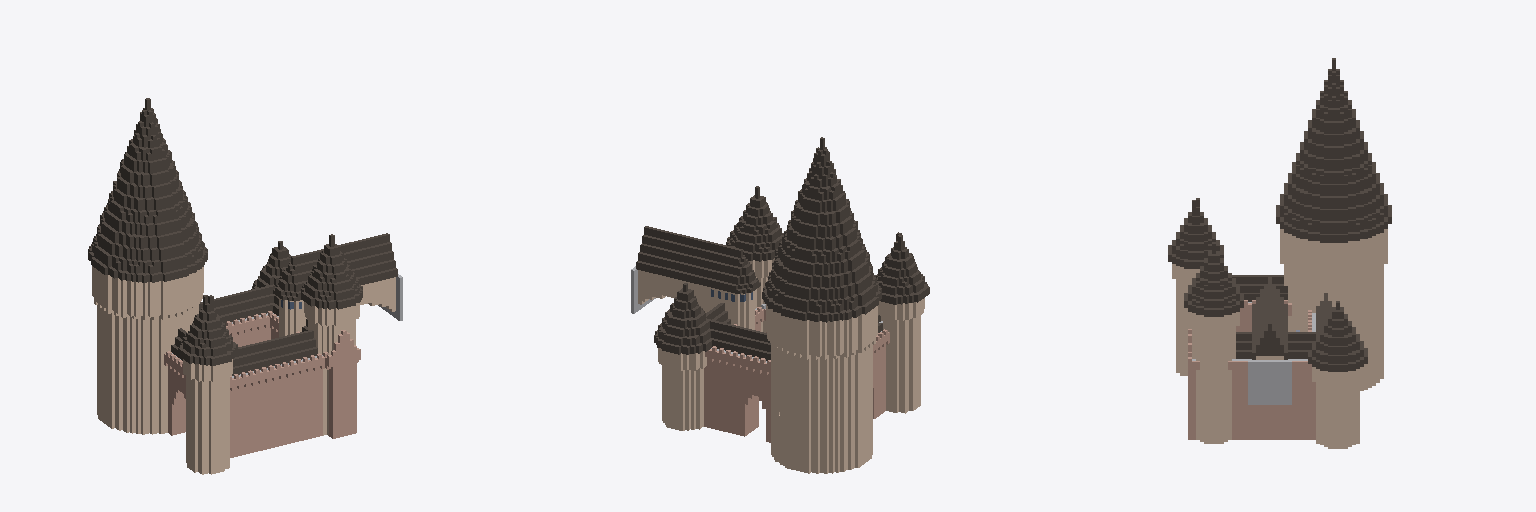
The picture shows the model from 3 angles: view 1: azimuth 30°, elevation 25°; view 2: azimuth 150°, elevation 25°; view 3: azimuth 270°, elevation 25°; orthographic projection.
Visible parts, largest first — view 1: object 1; view 2: object 1; view 3: object 1.
Part boxes in pixels (left/top/right/bottom): object 1: left=88, top=98, right=402, bottom=474; object 1: left=631, top=137, right=929, bottom=473; object 1: left=1168, top=58, right=1391, bottom=448.
Bounding box in the file's own units: 7.6 × 8.7 × 5.6.
Materials: 1 (1 with a texture image).